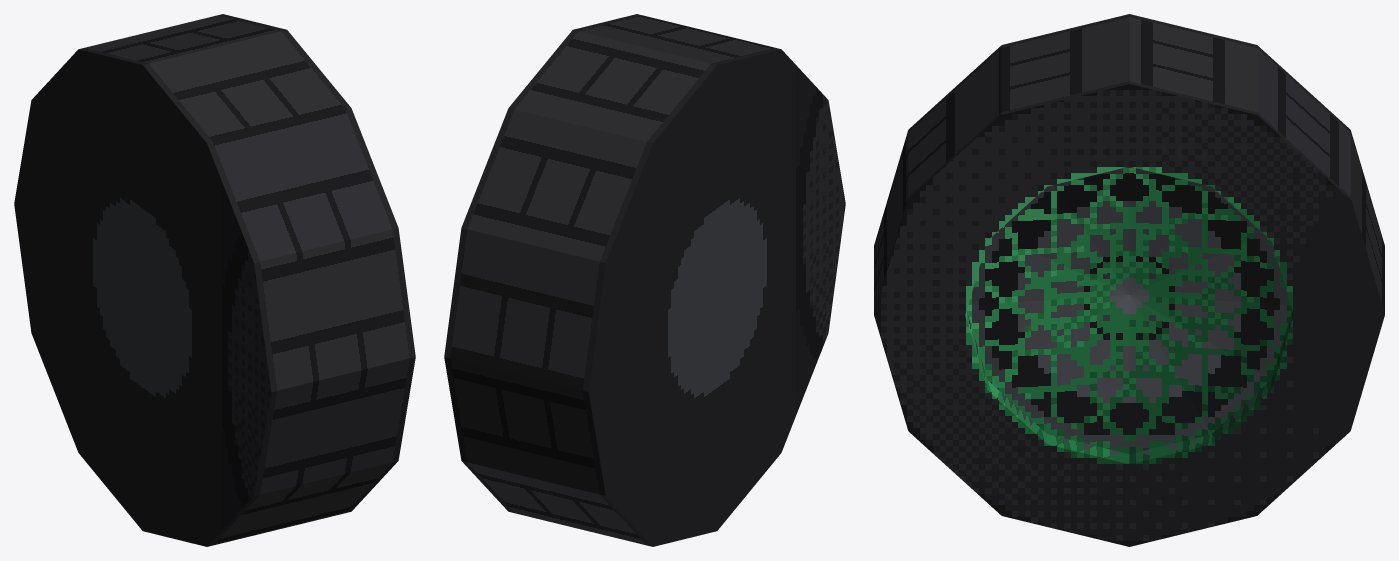
Rendered from wheel_mesh.glb.
3 views of the same model, side by side, from view 1: azimuth 30°, elevation 25°; view 2: azimuth 150°, elevation 25°; view 3: azimuth 270°, elevation 25° (orthographic).
Parts seen in each view (by area): view 1: wheel_mesh; view 2: wheel_mesh; view 3: wheel_mesh.
Boxes of the visible parts, x1,y1,x2,y2 form: wheel_mesh: [14, 14, 415, 546]; wheel_mesh: [444, 14, 845, 546]; wheel_mesh: [874, 14, 1384, 546].
Bounding box in the file's own units: 0.205 × 0.6319 × 0.6319.
1 material, 1 textured.
